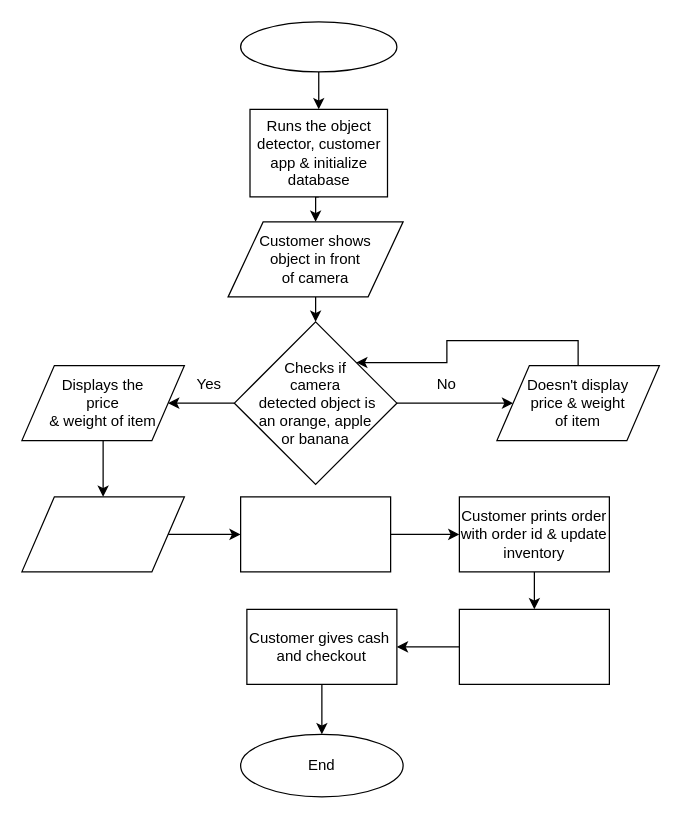
Some shapes in this 681 by 819 pixel diagram are drawn without their labels. Here are the shapes that lost their labels. From the top down, the centre of each, then its label:
At (x=318, y=46): "Start".
At (x=102, y=534): "Customer adds an item".
At (x=315, y=534): "App calculates total price & weight".
At (x=533, y=646): "Cashier searchs for order id & verify order".
